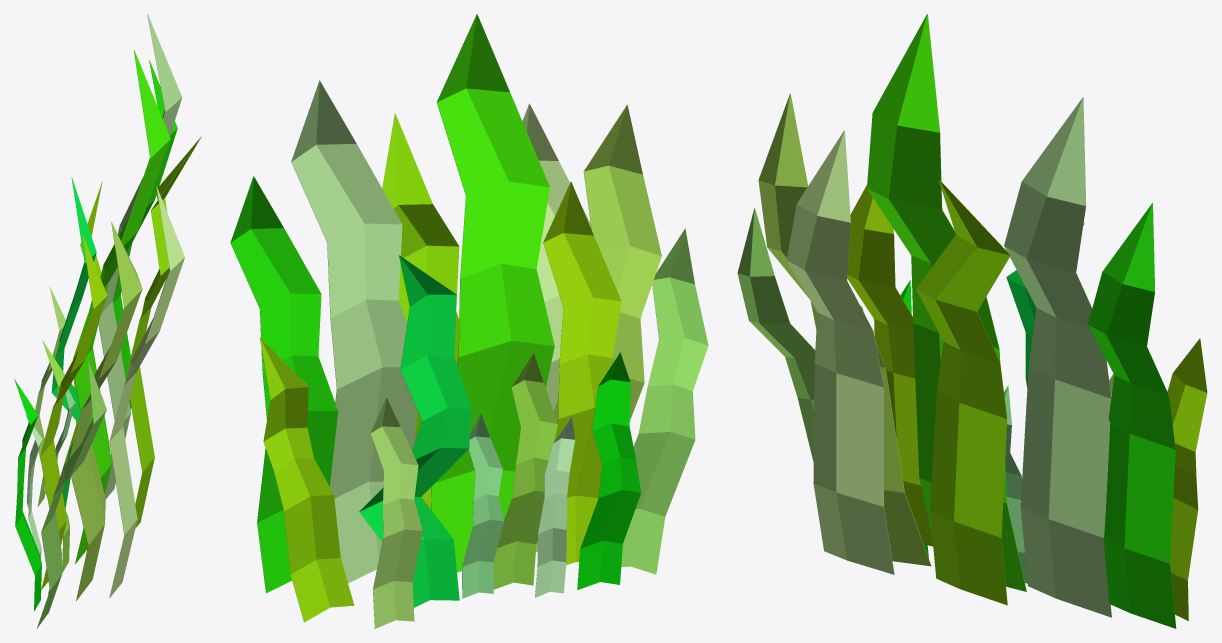
Rendered from koraal_3.fbx.
3 renders of one model, left to right at view 1: azimuth 30°, elevation 25°; view 2: azimuth 150°, elevation 25°; view 3: azimuth 270°, elevation 25°, orthographic. The views are drawn at different scales.
Parts seen in each view (by area): view 1: Plane; view 2: Plane; view 3: Plane.
Part boxes in pixels (x1,y1,x2,y2): Plane: [14, 14, 201, 628]; Plane: [230, 14, 708, 628]; Plane: [737, 14, 1207, 628].
Bounding box in the file's own units: 437 × 769 × 545.
